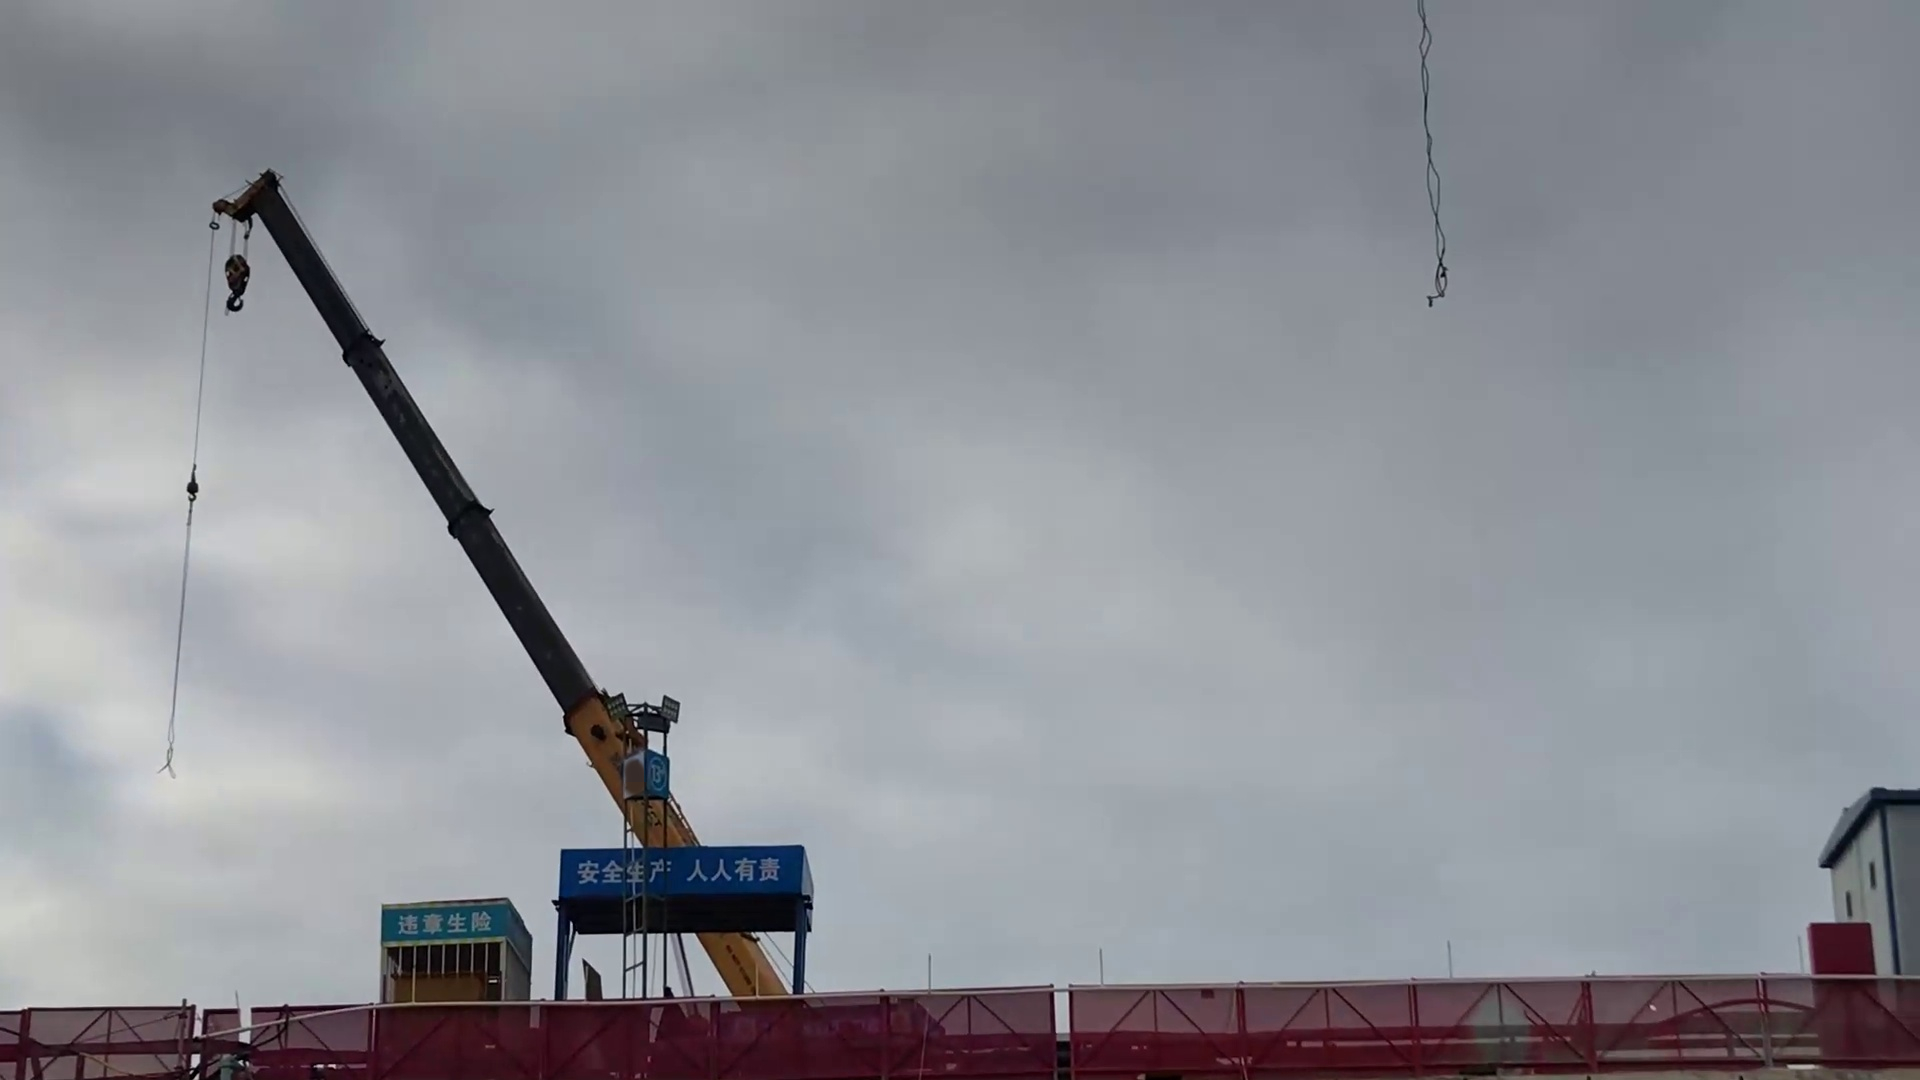hook: (216, 243, 257, 324)
slogan: (568, 847, 789, 897), (380, 898, 501, 947)
